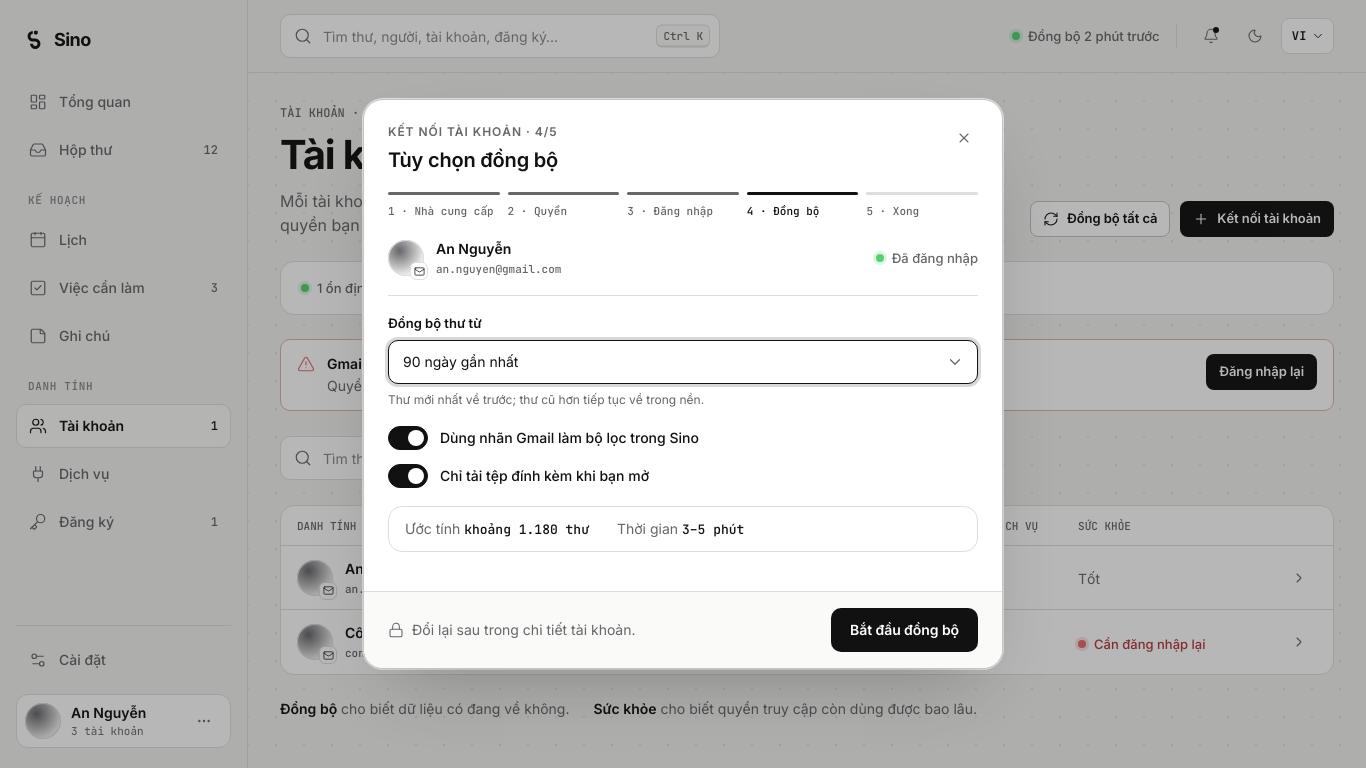
the first import after connecting, on the backend API (FE-51) › says when an account that does not receive mail cannot be imported
The width and height of the screenshot is (1366, 768).
Click the button "Bắt đầu đồng bộ": (905, 630) [831, 608, 978, 652]
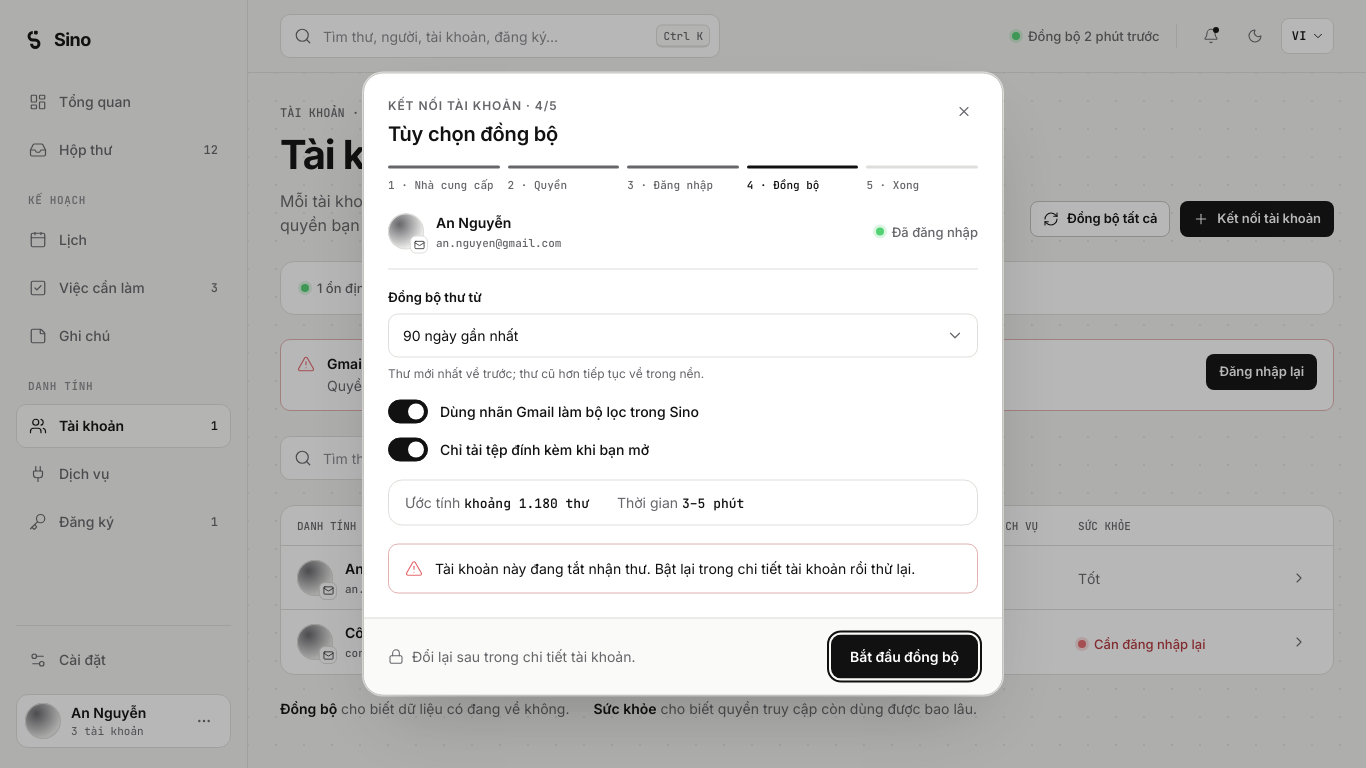
Expected: the dialog "Tùy chọn đồng bộ" is shown, [363, 72, 1003, 696]
Expected: the text "Tài khoản này đang tắt nhận thư. Bật lại trong chi tiết tài khoản rồi thử lại." is shown, [388, 544, 978, 594]
